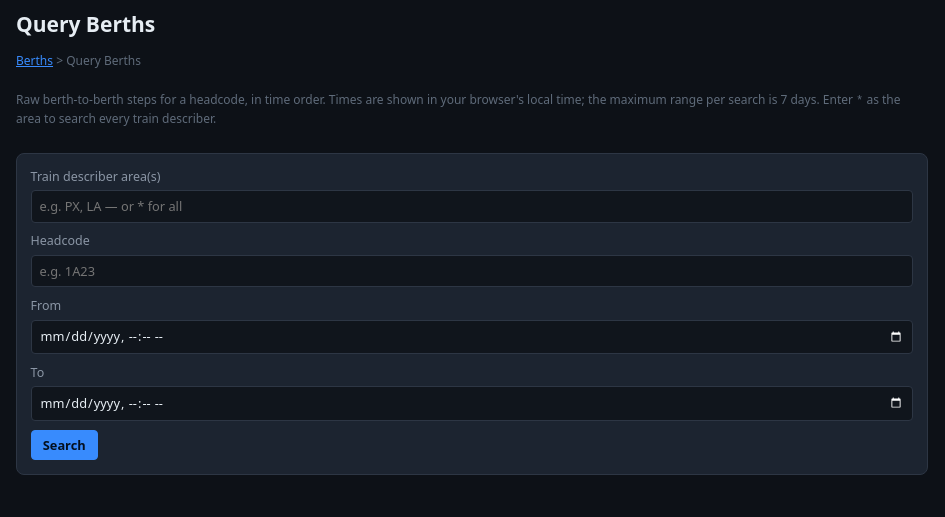
Test: BerthQueryPage › shows a client-side error when searching with no area entered
This screenshot has width=945, height=517.
Type "1A23" into the field with placeholder "e.g. 1A23" at (472,271), box [31,255,913,288]
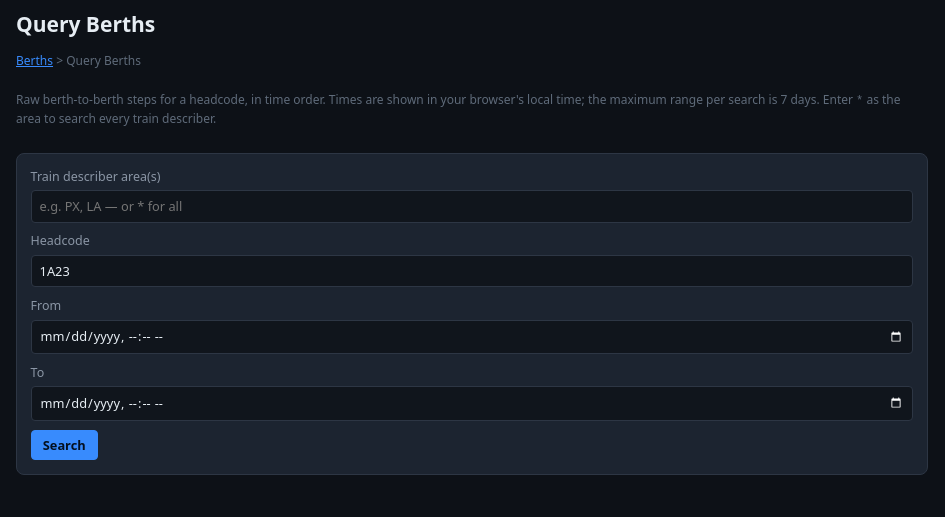
Click the button "Search" at (64,445), box [31,430,98,460]
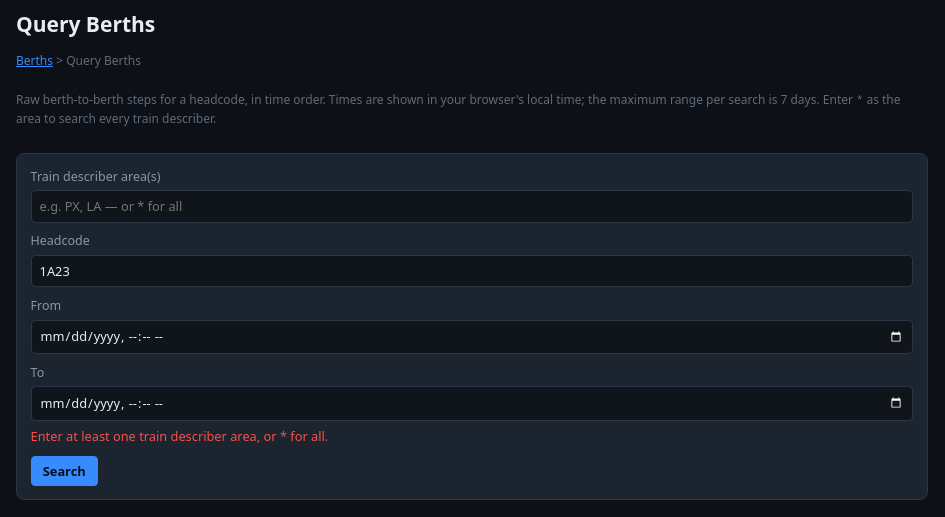
Expected: the text "Enter at least one train describer area, or * for all." is shown, [31,427,328,445]
